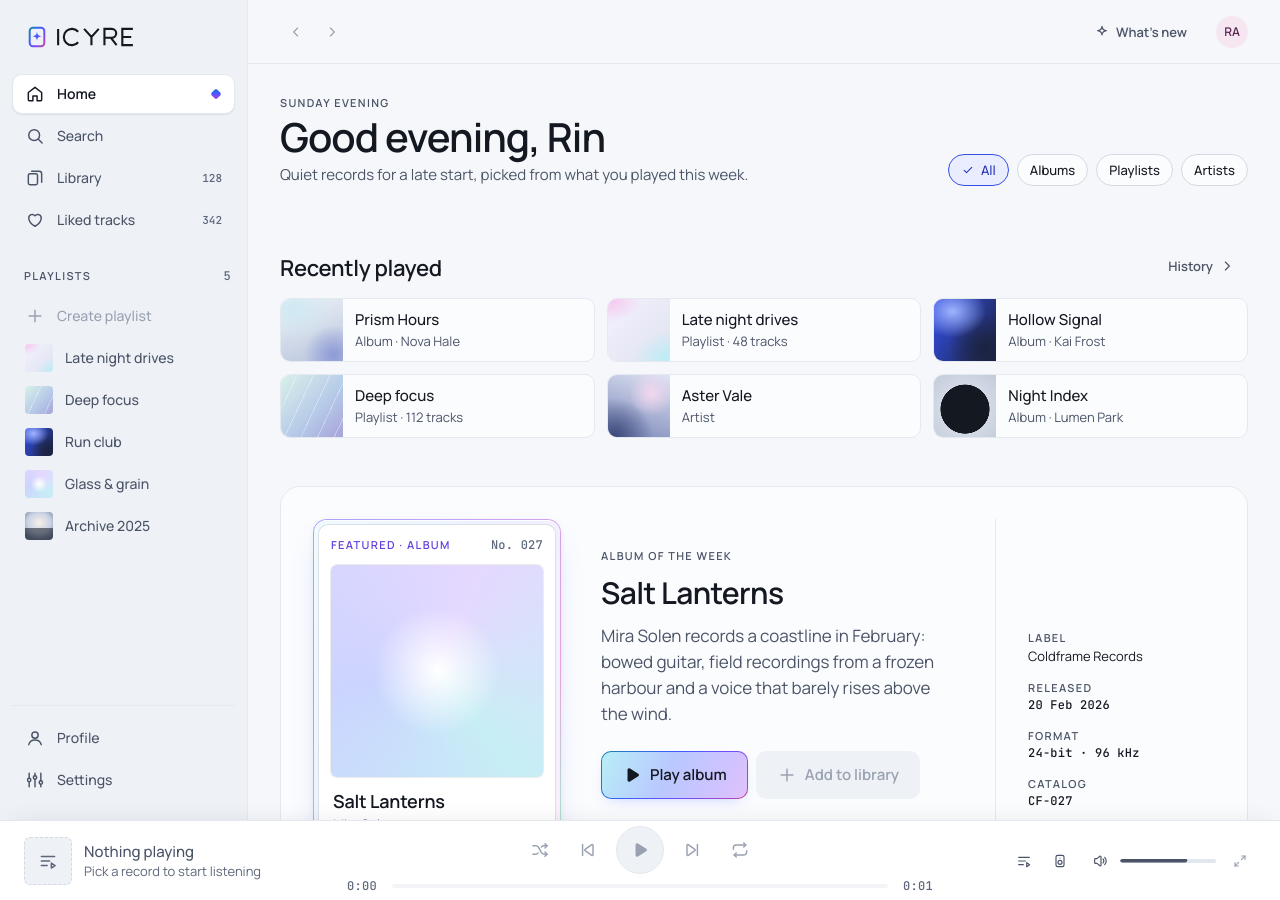
Test: PlayerBar — Queue drawer, Like, Device picker, Expanded player › keeps the previous active output and shows an error when switching fails
The image size is (1280, 900).
Click the button named "Connect to a device" at (1060, 860), box [1044, 844, 1076, 876]
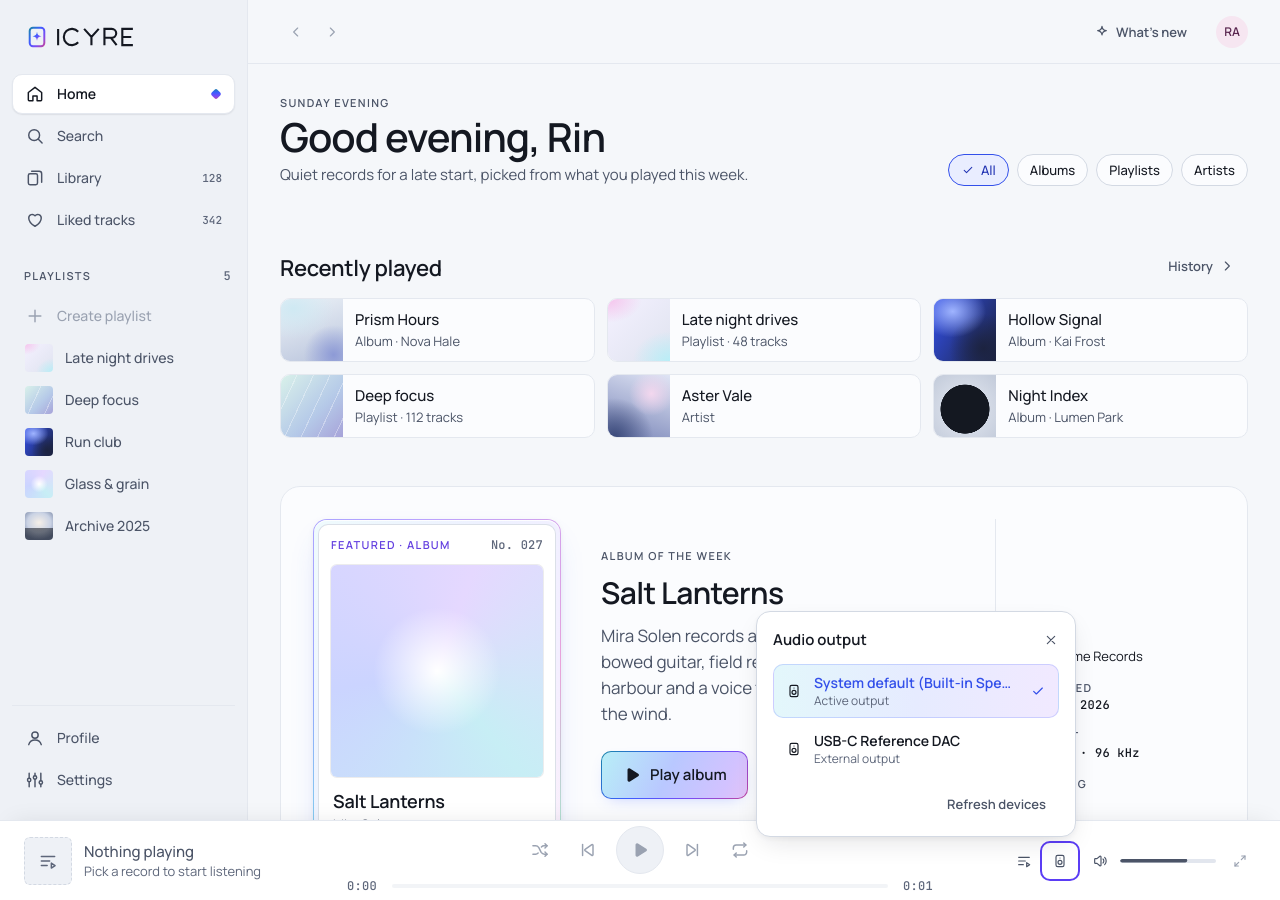
Click the radio button labelled "USB-C Reference DAC External output" at (916, 748), box [773, 722, 1059, 776]
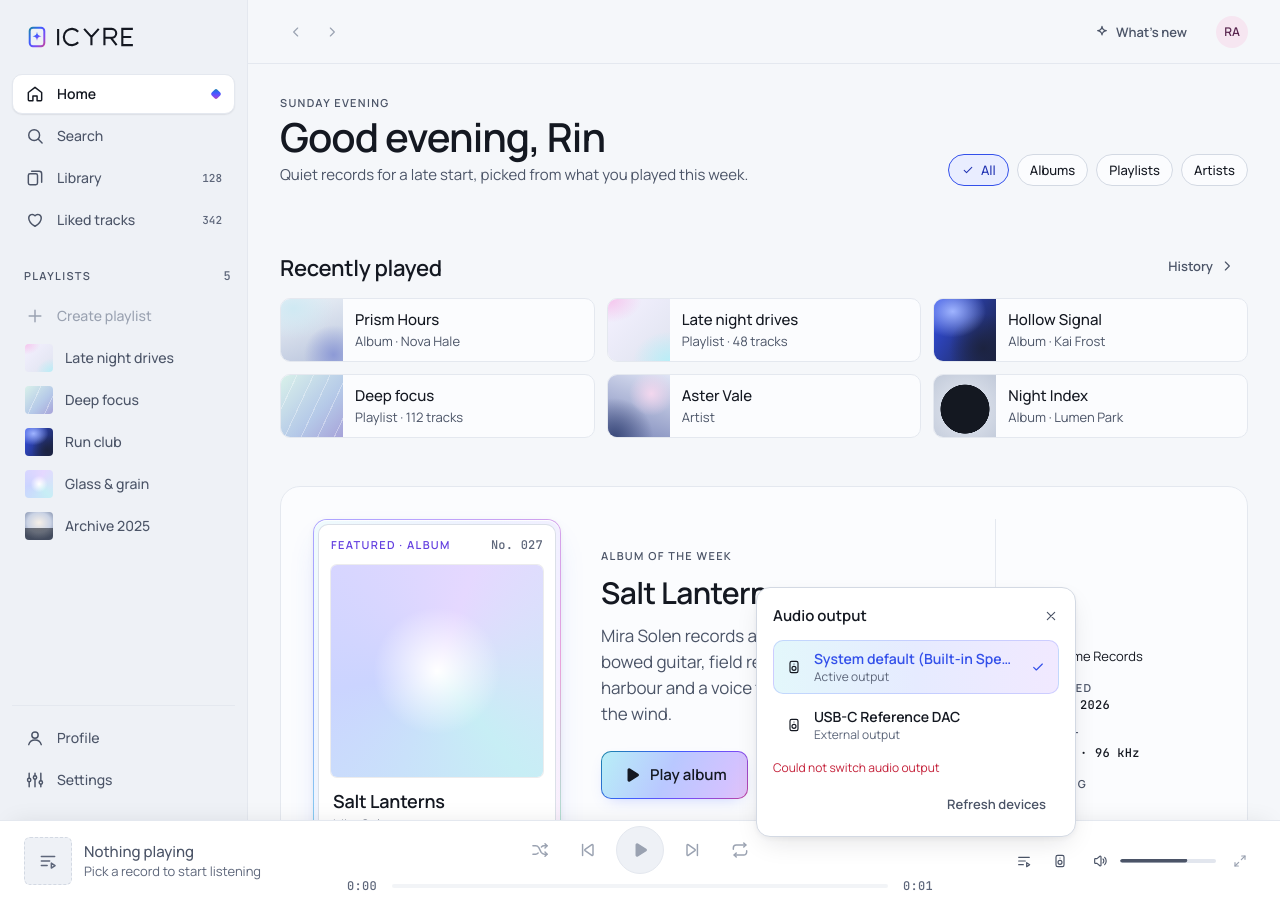
Result: the text "Active output" is shown at [814, 668, 889, 684]
Result: the message reads "Could not switch audio output" at [773, 758, 940, 776]
